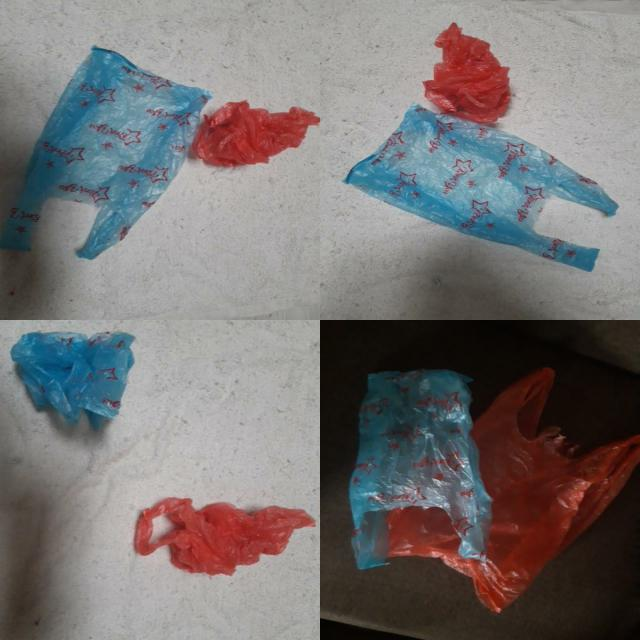Single-layer Plastic: (388, 368, 640, 612), (345, 105, 618, 270), (0, 46, 211, 259), (349, 370, 491, 569), (134, 498, 315, 575), (11, 331, 135, 430), (424, 22, 510, 124), (192, 101, 320, 166)
